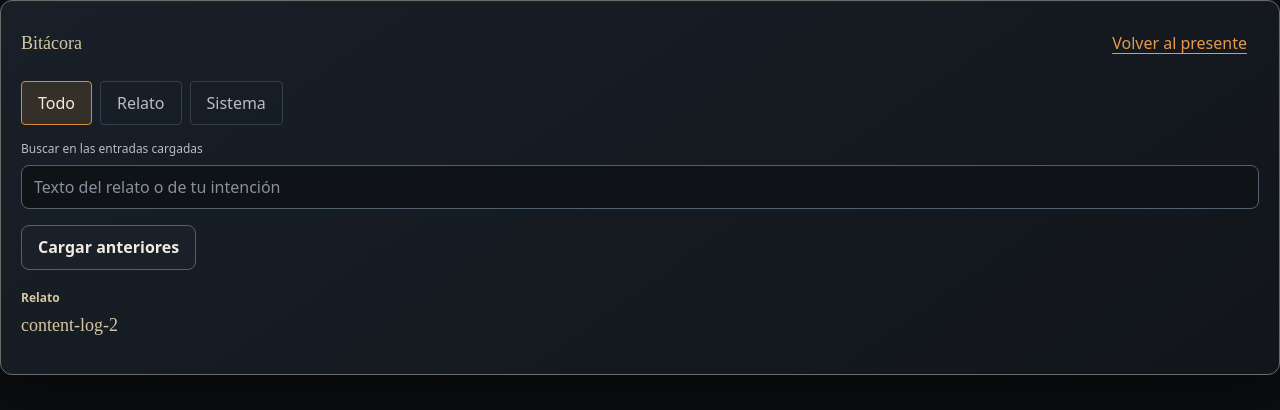
Scenario: StoryLog — load older control › removes the control once the server reports hasMore:false
This screenshot has width=1280, height=410.
Step 1. Click the button "Cargar anteriores" → click(109, 248), box [21,225,196,270]
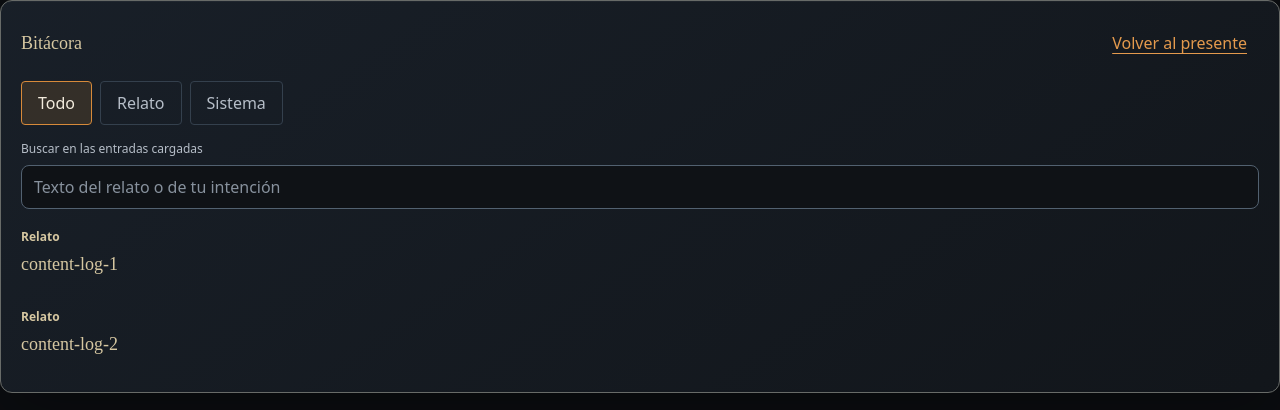
Check: the button "Cargar anteriores" is gone
